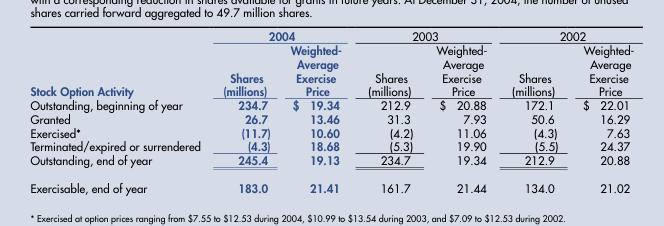table: (29, 28, 633, 194)
table column: (29, 28, 211, 194), (279, 28, 354, 194), (423, 28, 498, 194), (498, 28, 569, 194), (354, 28, 423, 194), (211, 28, 279, 194), (569, 28, 633, 194)
table column header: (29, 28, 633, 97)
table row: (29, 42, 633, 97), (29, 173, 633, 194), (29, 153, 633, 173), (29, 28, 633, 42), (29, 97, 633, 111), (29, 111, 633, 125), (29, 125, 633, 139), (29, 139, 633, 153)
table spanning cell: (29, 28, 211, 97), (354, 28, 498, 42), (211, 28, 354, 42), (498, 28, 633, 42)
